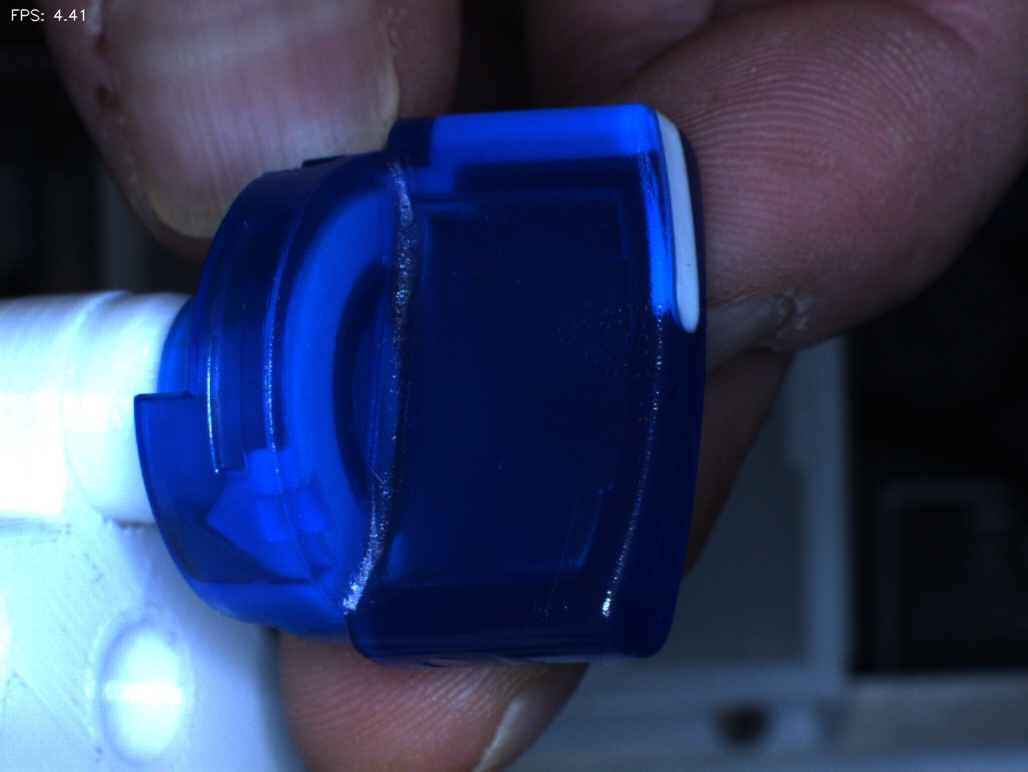Givrage: (521, 465, 602, 636)
